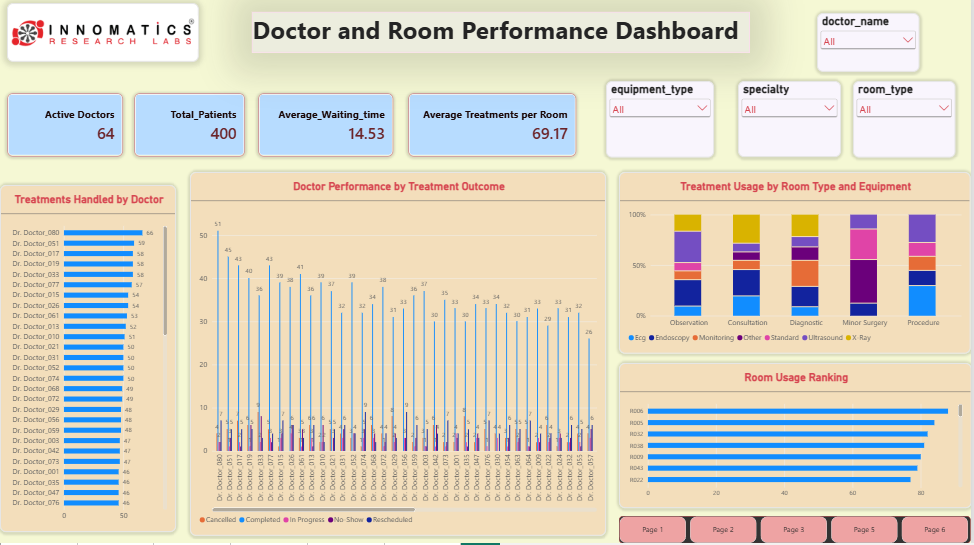

This screenshot's page, from the dashboard's own definition file:
{"tool":"powerbi","page":{"name":"Page 4","canvas":[1920,1080],"ordinal":3},"visuals":[{"type":"cardVisual","fields":{"Data":["treatments.Total_Patients"]},"box":[269.6,194,219.2,126],"z":0},{"type":"cardVisual","fields":{"Data":["doctors.Active Doctors"]},"box":[20.6,194.1,229.2,125.9],"z":1000},{"type":"cardVisual","fields":{"Data":["appointments.Average_Waiting_time"]},"box":[514.1,194.1,267.1,126],"z":2000},{"type":"cardVisual","fields":{"Data":["rooms.Average Treatments per Room"]},"box":[809.3,194.1,332.4,125.9],"z":3000},{"type":"clusteredBarChart","title":"Treatments Handled by Doctor","fields":{"Category":["doctors.doctor_name"],"Y":["treatments.Total_Treatments"]},"box":[5.4,374.6,347.5,684.1],"z":4000},{"type":"clusteredColumnChart","title":"Doctor Performance by Treatment Outcome","fields":{"Category":["doctors.doctor_name"],"Series":["treatments.status"],"Y":["treatments.Total_Treatments"]},"box":[380,349.3,819.8,716.6],"z":5000},{"type":"hundredPercentStackedColumnChart","title":"Treatment Usage by Room Type and Equipment","fields":{"Category":["rooms.room_type"],"Series":["rooms.equipment_type"],"Y":["treatments.Total_Treatments"]},"box":[1225.1,349.3,693.1,358.3],"z":6000},{"type":"clusteredBarChart","title":"Room Usage Ranking","fields":{"Category":["rooms.room_id"],"Y":["rooms.Room Treatment Count"]},"box":[1225.1,725.7,694.9,285.9],"z":7000},{"type":"textbox","box":[503.1,34.4,980.8,79.6],"z":8000},{"type":"slicer","fields":{"Values":["doctors.specialty"]},"box":[1459.6,169.3,203,150],"z":9000},{"type":"slicer","fields":{"Values":["rooms.equipment_type"]},"box":[1199.5,169.3,212.6,150.7],"z":10000},{"type":"slicer","fields":{"Values":["rooms.room_type"]},"box":[1686.7,169.3,202.3,150.7],"z":11000},{"type":"slicer","fields":{"Values":["doctors.doctor_name"]},"box":[1616.5,35.1,202.3,115.6],"z":12000},{"type":"image","box":[20.6,16.5,377.8,115.6],"z":13000},{"type":"pageNavigator","box":[1225.1,1026.1,693.1,54.3],"z":14000}]}

Visuals, with their boxes in screenshot pixels (x1, y1, x2, y2), scaled from the page's 1920x1080 canvas onto the 974x545 screenshot:
cardVisual - treatments.Total_Patients: region(137, 98, 248, 161)
cardVisual - doctors.Active Doctors: region(10, 98, 127, 161)
cardVisual - appointments.Average_Waiting_time: region(261, 98, 396, 162)
cardVisual - rooms.Average Treatments per Room: region(411, 98, 579, 161)
"Treatments Handled by Doctor" clusteredBarChart: region(3, 189, 179, 534)
"Doctor Performance by Treatment Outcome" clusteredColumnChart: region(193, 176, 609, 538)
"Treatment Usage by Room Type and Equipment" hundredPercentStackedColumnChart: region(621, 176, 973, 357)
"Room Usage Ranking" clusteredBarChart: region(621, 366, 973, 510)
textbox: region(255, 17, 753, 58)
slicer - doctors.specialty: region(740, 85, 843, 161)
slicer - rooms.equipment_type: region(608, 85, 716, 161)
slicer - rooms.room_type: region(856, 85, 958, 161)
slicer - doctors.doctor_name: region(820, 18, 923, 76)
image: region(10, 8, 202, 67)
pageNavigator: region(621, 518, 973, 544)
